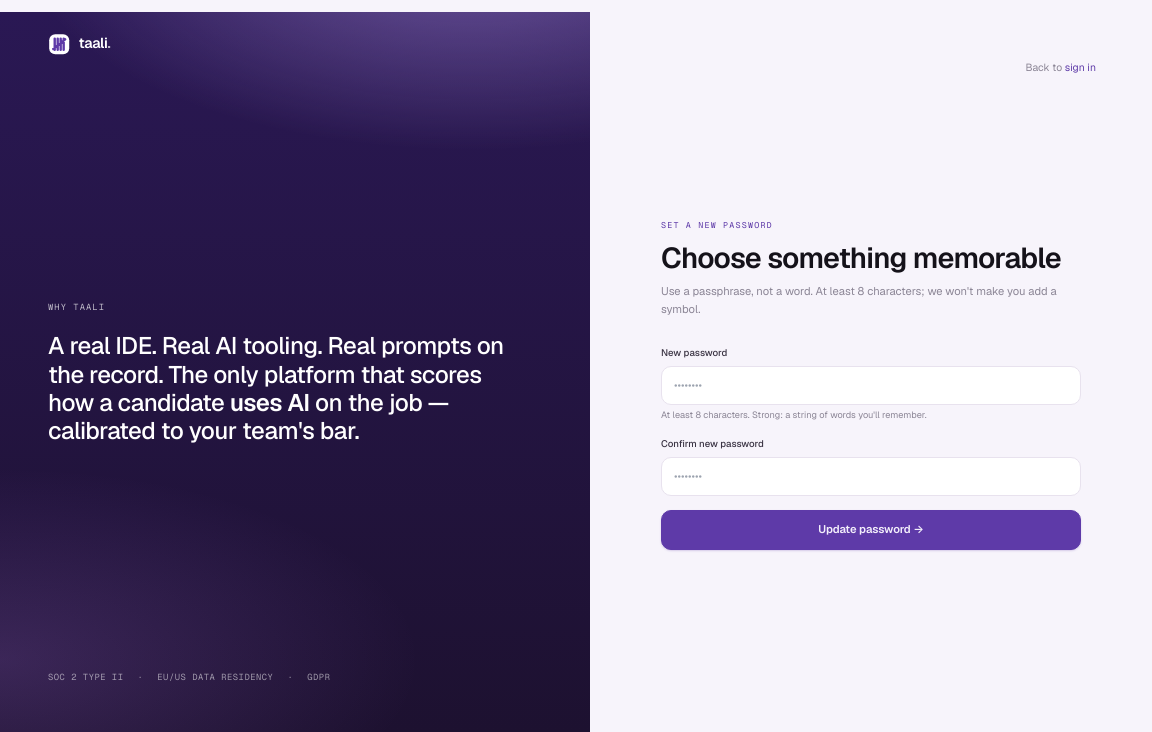
Scenario: Auth page redesign › surfaces the FastAPI-Users {code, reason} password reason on reset
Type "password123" into the password field with placeholder "••••••••" at (871, 386), box left=661, top=366, right=1081, bottom=405
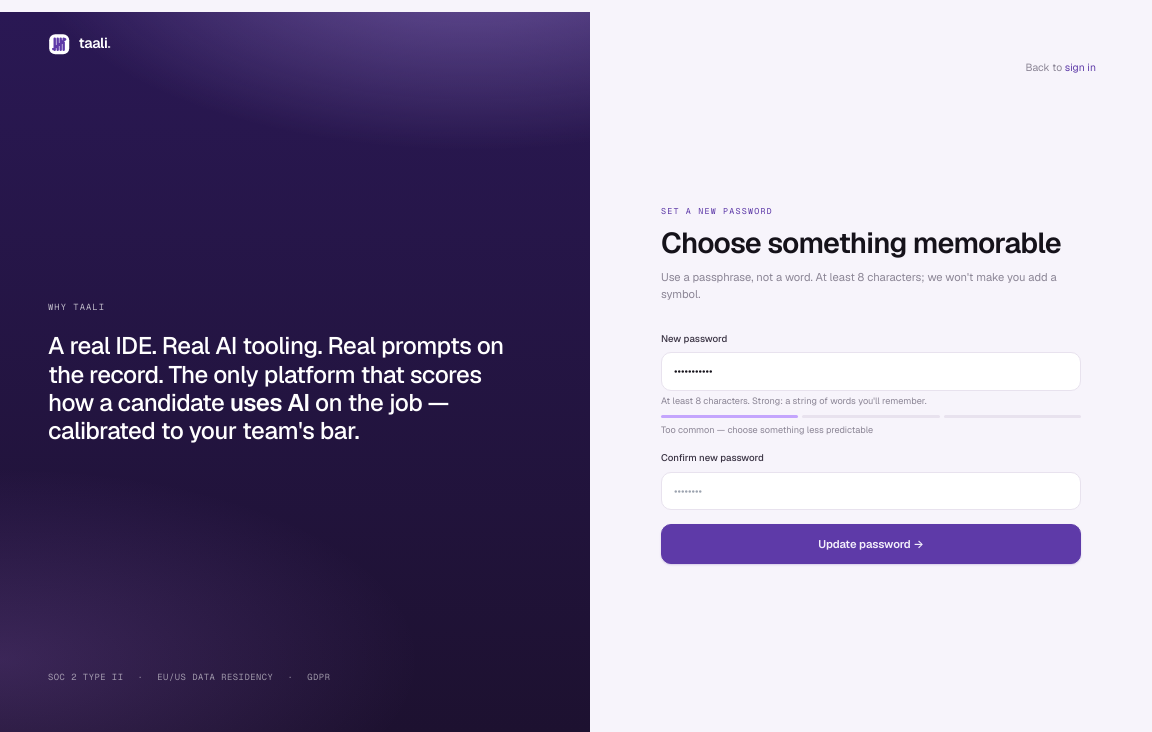
Type "password123" into the password field with placeholder "••••••••" at (871, 491), box left=661, top=472, right=1081, bottom=510
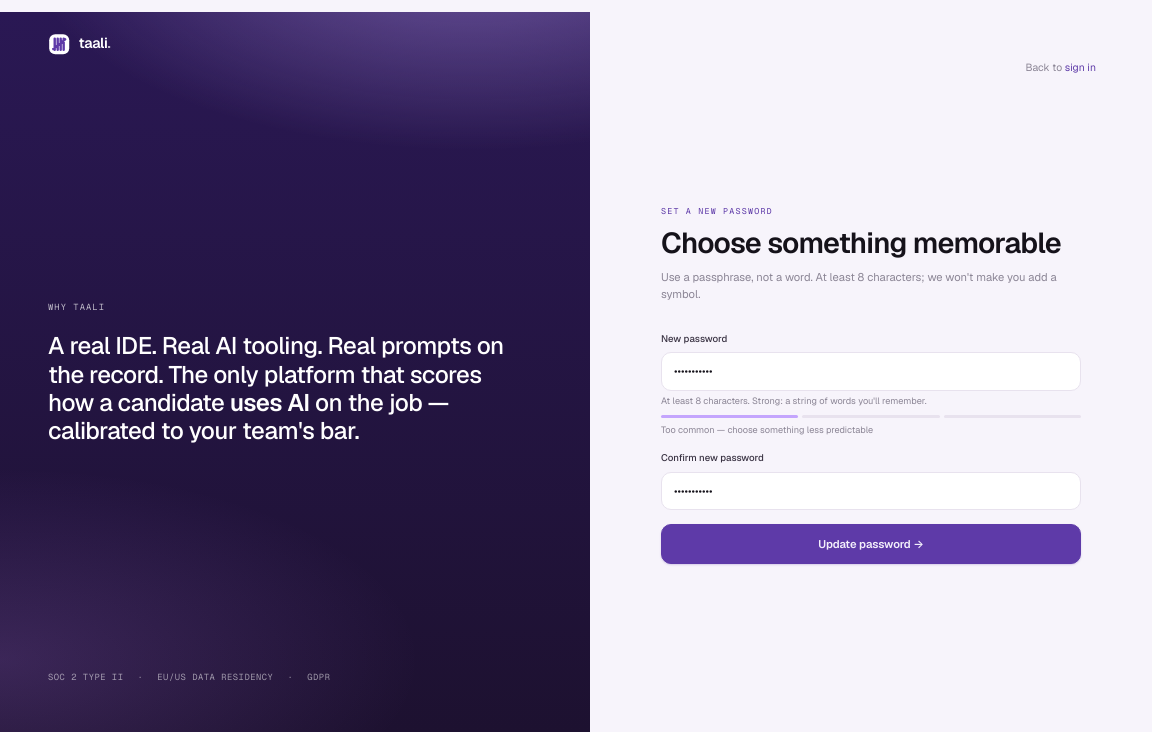
Click the button "Update password →" at (871, 544), box left=661, top=524, right=1081, bottom=564
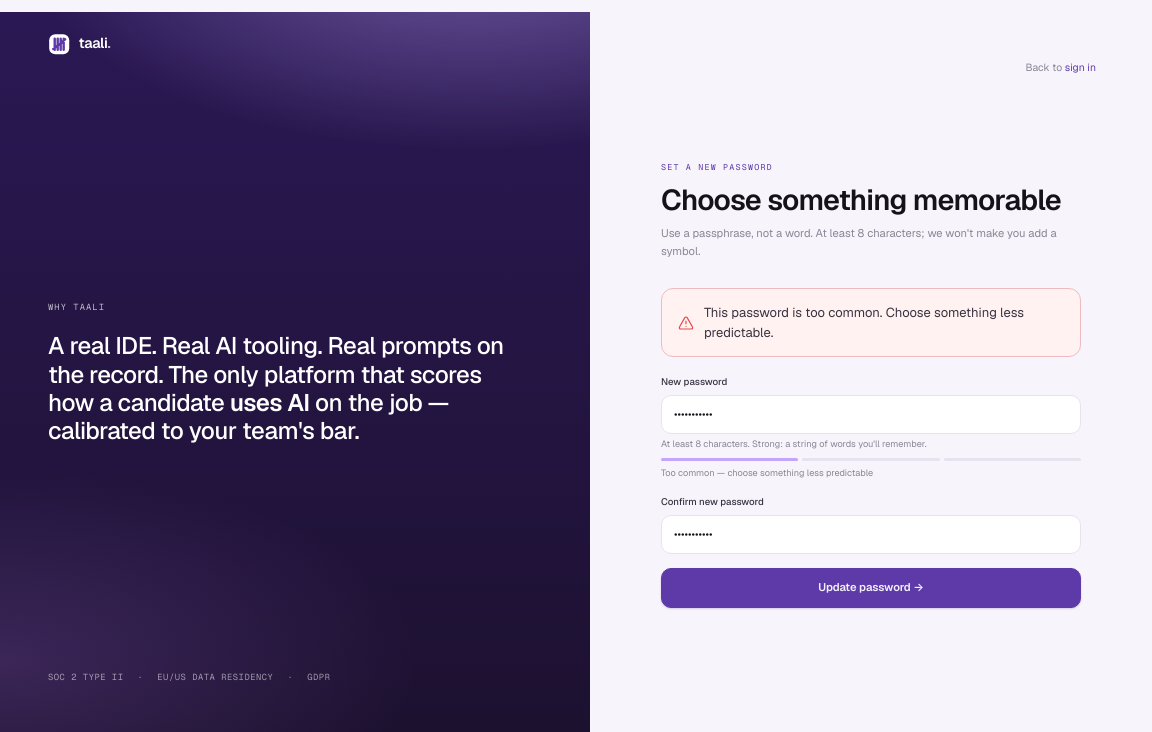
Now the text "This password is too common. Choose something less predictable." is shown, box left=704, top=303, right=1064, bottom=342
